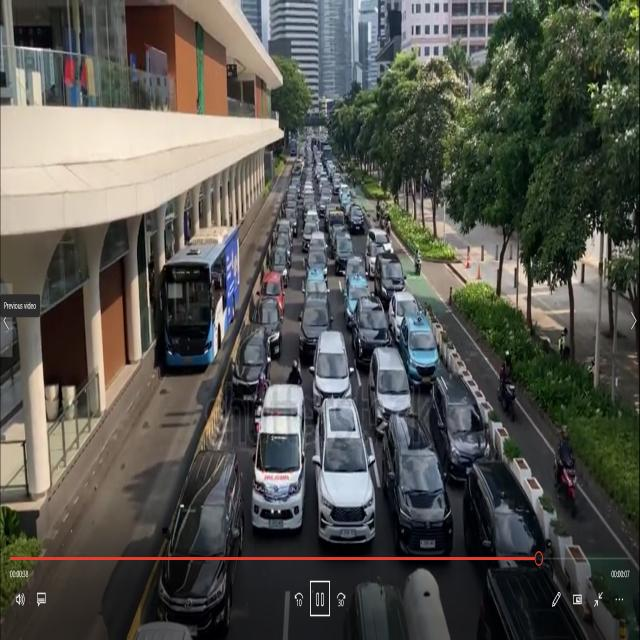Ambulance: (254, 372, 313, 534)
